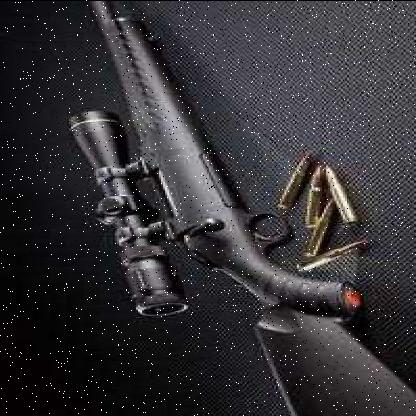rifle: (46, 4, 415, 416)
